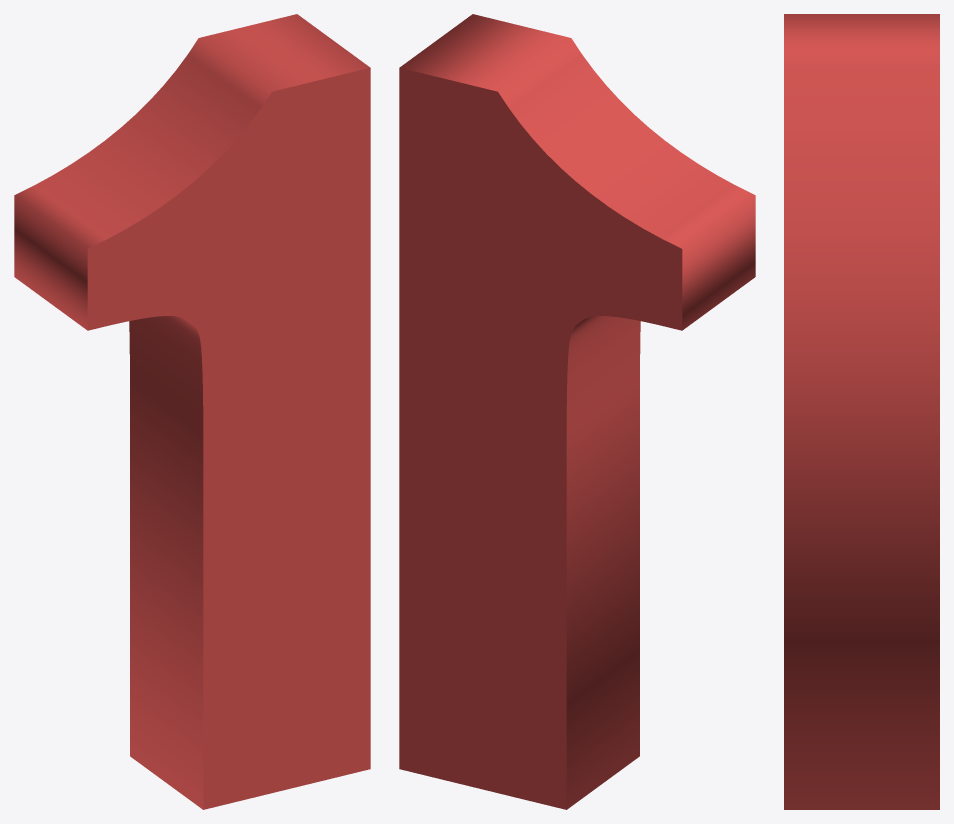
3 views of the same model, side by side, from view 1: azimuth 30°, elevation 25°; view 2: azimuth 150°, elevation 25°; view 3: azimuth 270°, elevation 25° (orthographic). The views are drawn at different scales.
Parts seen in each view (by area): view 1: テキスト; view 2: テキスト; view 3: テキスト.
Part boxes in pixels (x1,y1,x2,y2): テキスト: (14,14,370,809); テキスト: (399,14,755,809); テキスト: (784,14,939,809).
Bounding box in the file's own units: 0.2225 × 0.5275 × 0.1.
